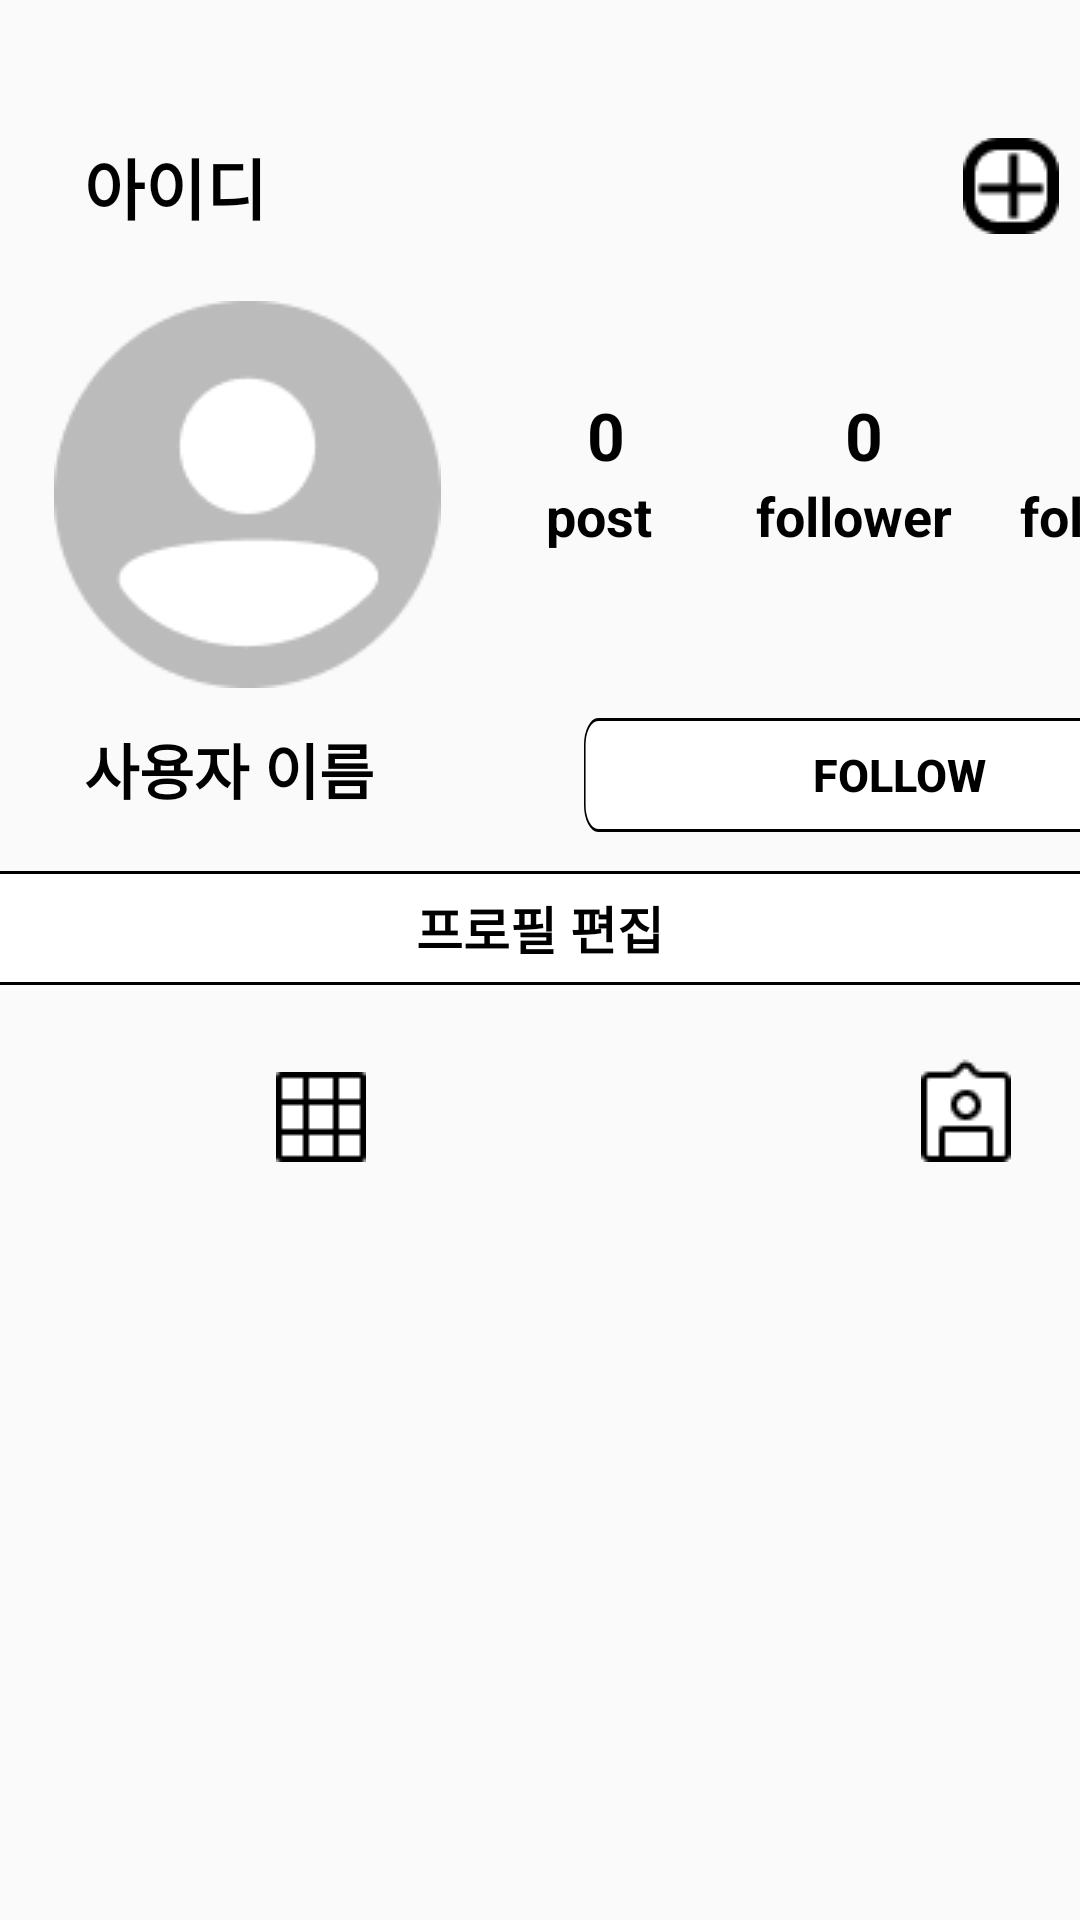

Named icons in this screenshot (1080w x 1920h) and their bounding boxes, [x1, y1, x2, y2]:
peed tag: [921, 1059, 1011, 1162]
plus: [963, 138, 1059, 234]
